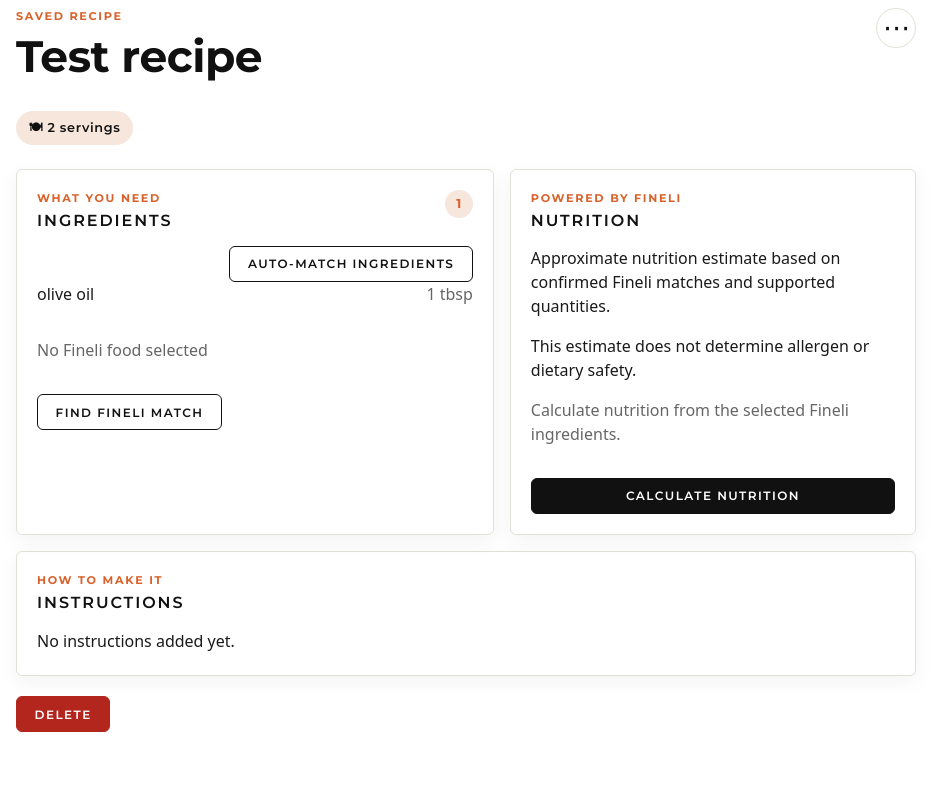
Test: RecipeDetailPage ingredient matching › supports auto-matching unmatched ingredients and shows negligible reason
Click the button "Auto-match ingredients".
click(351, 264)  # box [229,246,473,282]
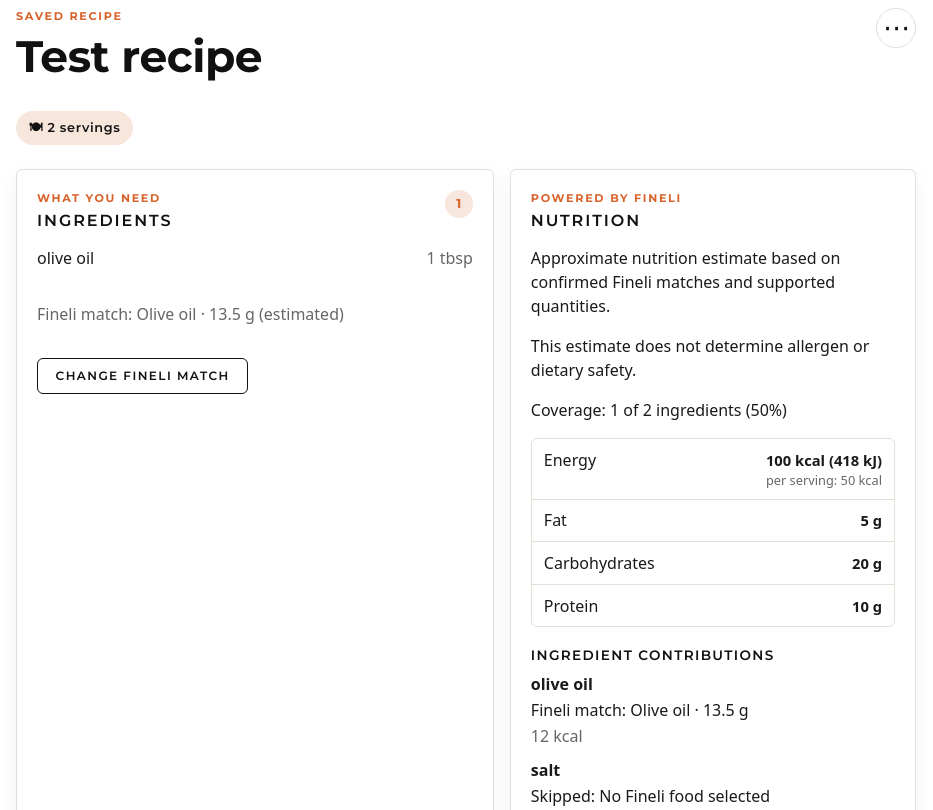
Expected: the text "Fineli match: Olive oil · 13.5 g (estimated)" is shown, [37,303,344,325]
